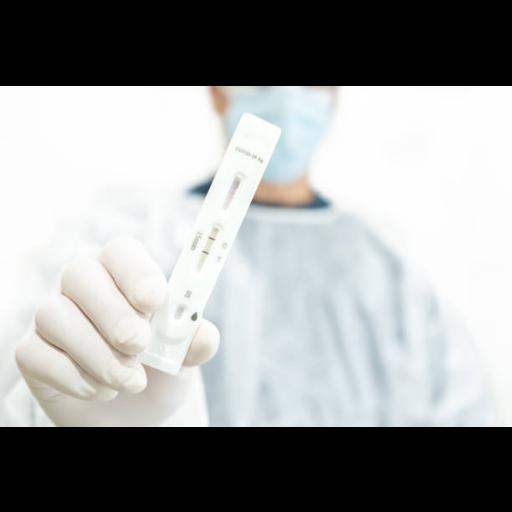Pos: (134, 111, 285, 375)
